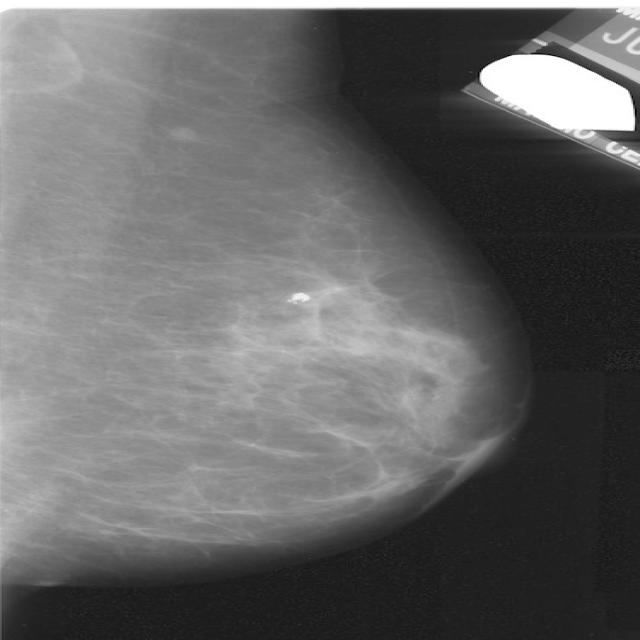tumour: (162, 127, 198, 144)
